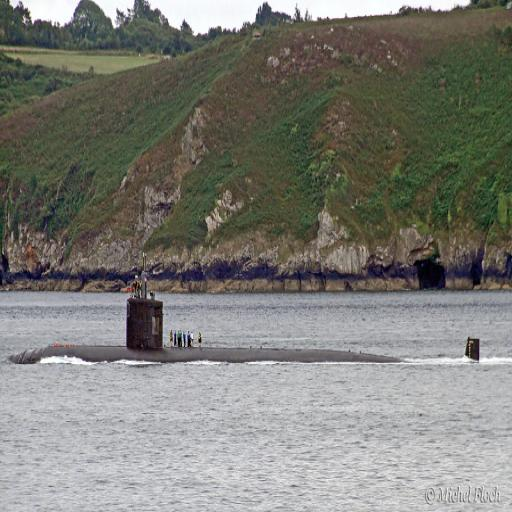submarine: (19, 251, 481, 365)
